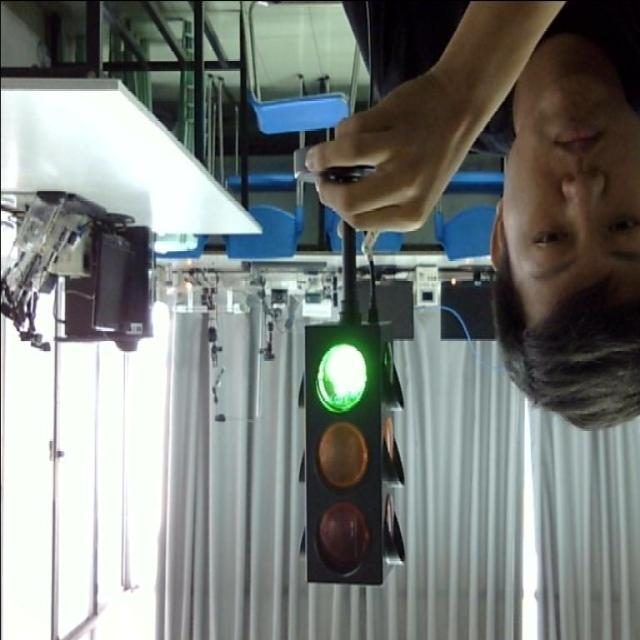green_light: (303, 322, 403, 582)
